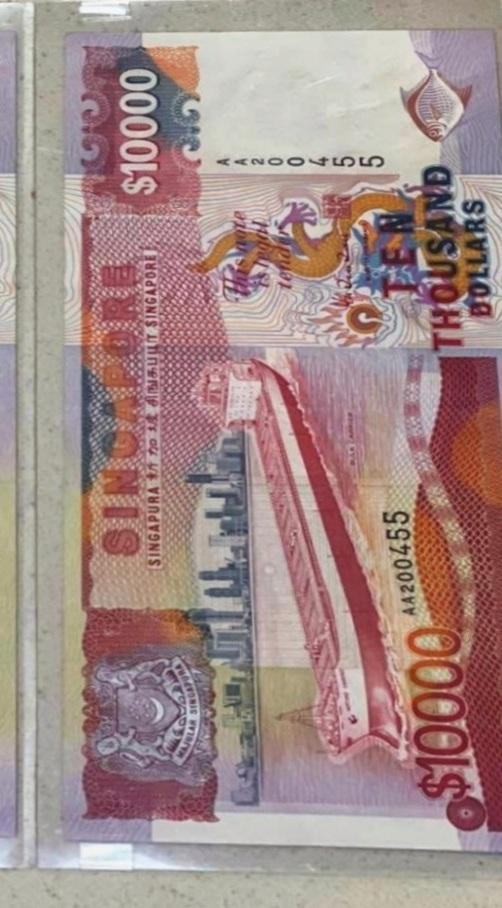10000SingaporeDollar: (73, 27, 502, 840)
